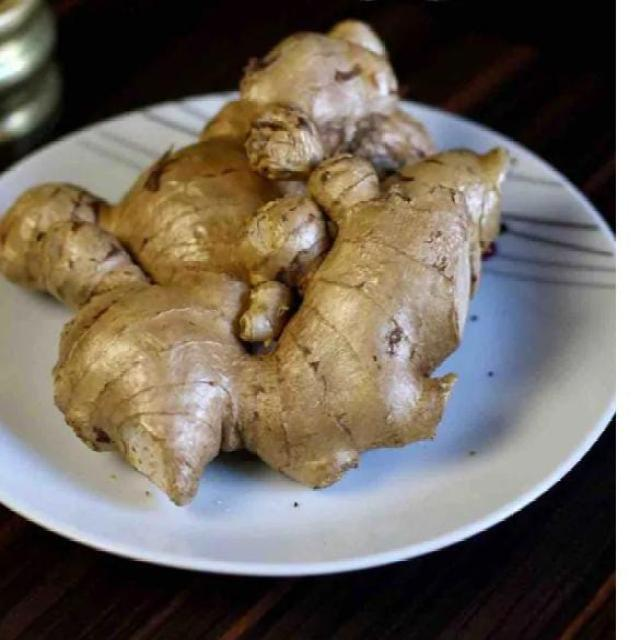ginger: (26, 130, 516, 490)
